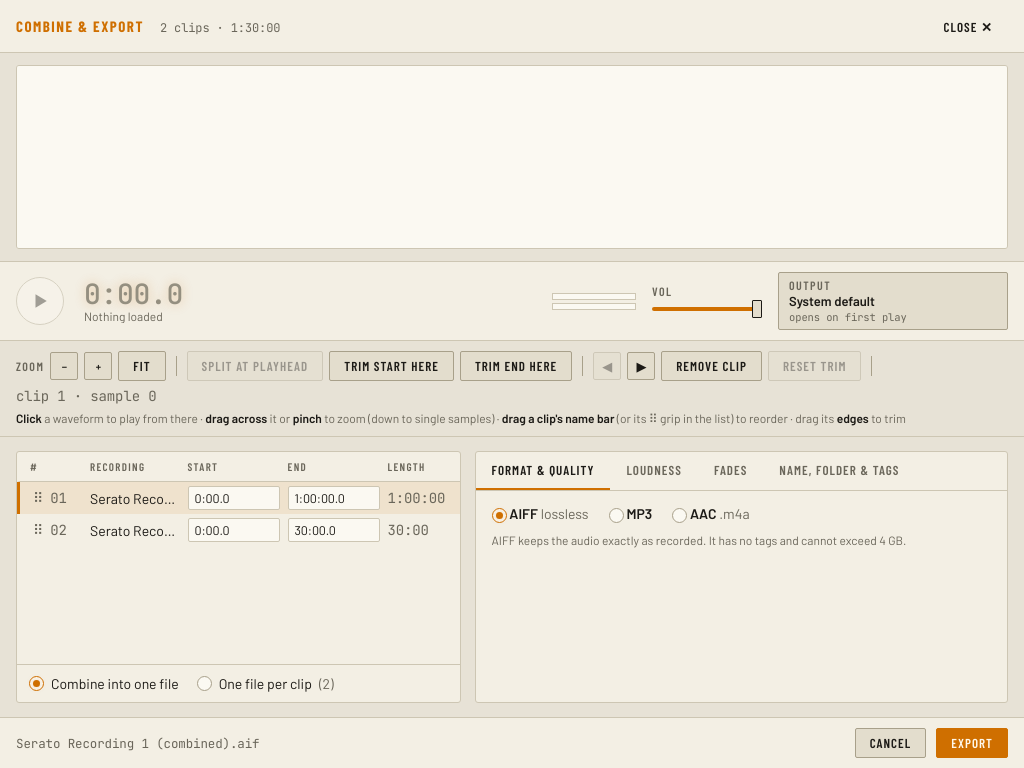
Test: editing › moves a clip earlier and later
Click the element with class "clip" that starts with "Serato Recording 2.aif".
click(238, 530)  # box [17,514,460,546]
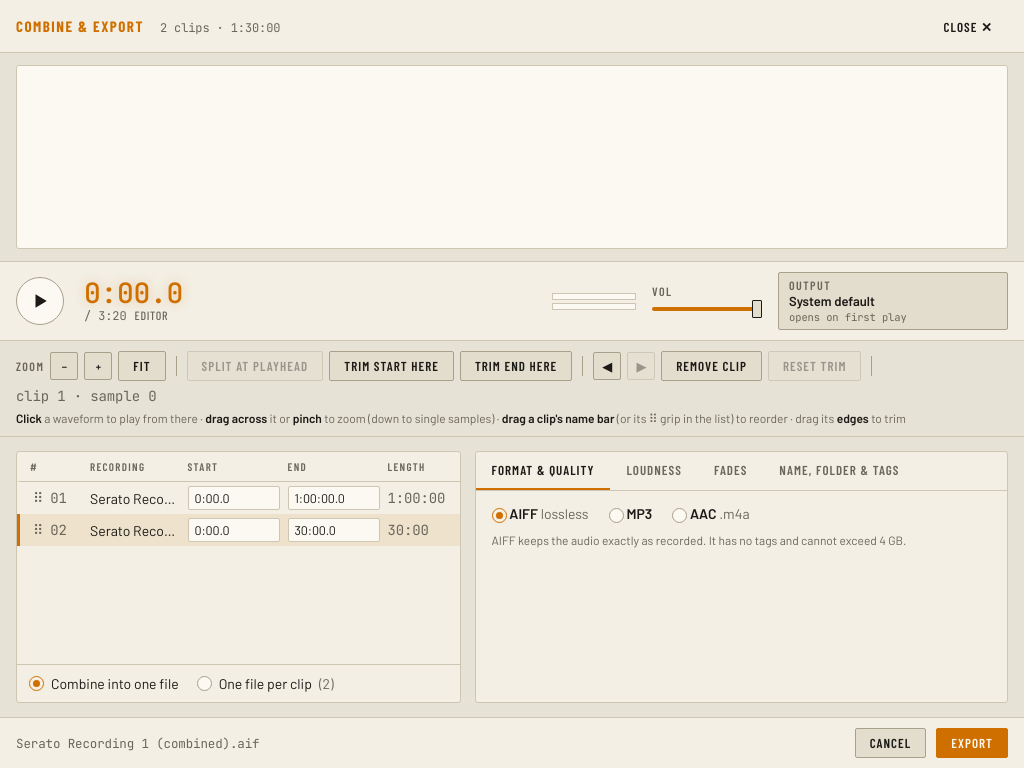
Click the button named "Move clip earlier".
click(607, 366)  # box [593,352,621,380]
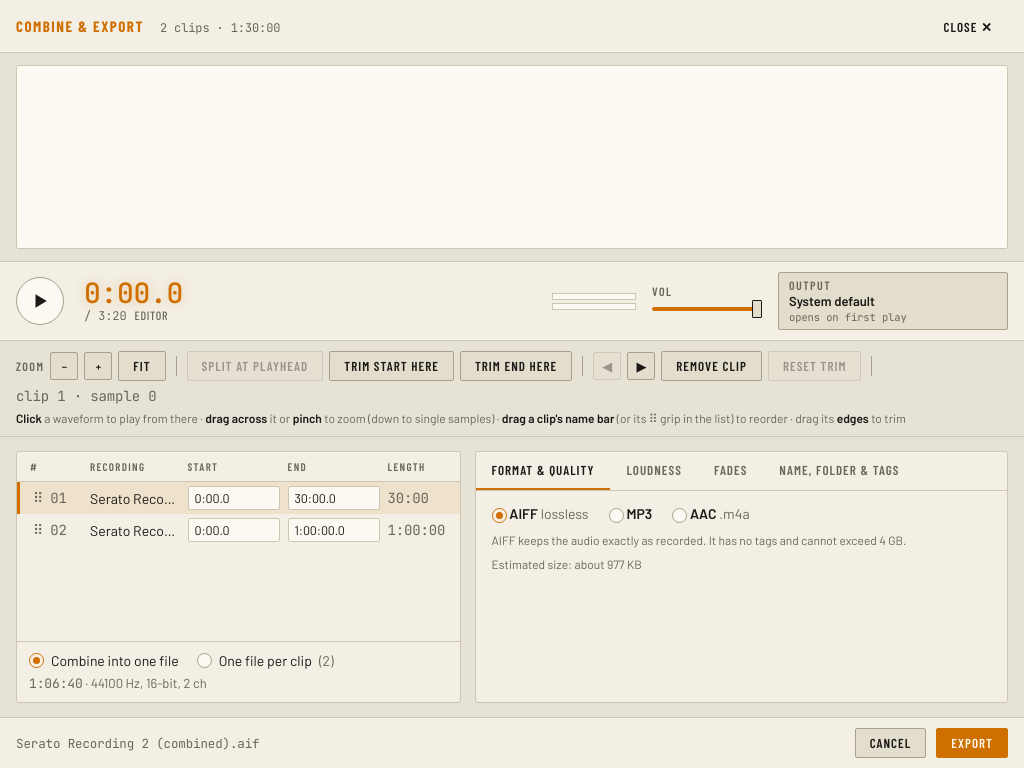
expect the button named "Move clip earlier" is disabled: met, box [593,352,621,380]
